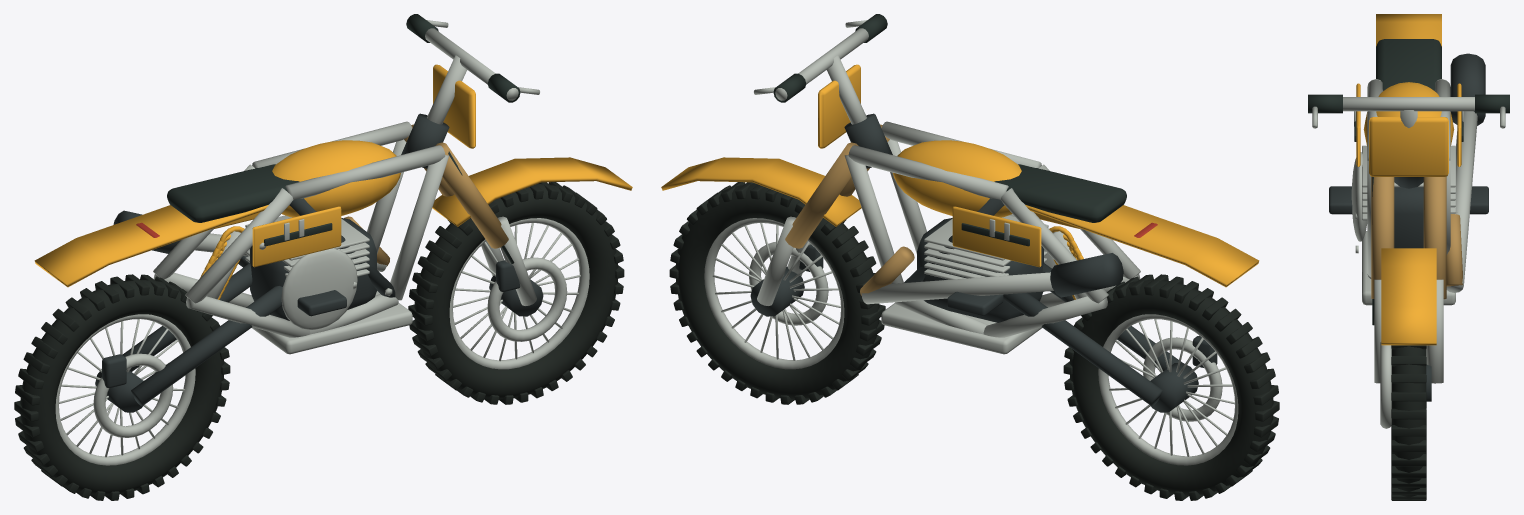
File: bike.glb
The picture shows the model from 3 angles, left to right: view 1: azimuth 30°, elevation 25°; view 2: azimuth 150°, elevation 25°; view 3: azimuth 270°, elevation 25°; orthographic projection. The views are drawn at different scales.
Visible parts, largest first — view 1: chassis_Brushed alloy, rearWheel_Tyre rubber, frontWheel_Tyre rubber, chassis_Works ochre, frontWheel_Brushed alloy, rearWheel_Brushed alloy, chassis_Grips and saddle, chassis_Engine graphite, swingarm_Engine graphite, Arched front mudguard, chassis_Fork bronze, forkSlider_Brushed alloy (+2 smaller); view 2: chassis_Brushed alloy, rearWheel_Tyre rubber, frontWheel_Tyre rubber, chassis_Works ochre, rearWheel_Brushed alloy, frontWheel_Brushed alloy, chassis_Engine graphite, chassis_Grips and saddle, swingarm_Engine graphite, Arched front mudguard, chassis_Fork bronze, forkSlider_Brushed alloy (+2 smaller); view 3: chassis_Brushed alloy, chassis_Works ochre, frontWheel_Tyre rubber, Arched front mudguard, chassis_Fork bronze, chassis_Engine graphite, chassis_Grips and saddle, forkSlider_Brushed alloy, frontWheel_Brushed alloy.
Part boxes in pixels (x1,y1,x2,y2): chassis_Brushed alloy: (153,20,539,354); rearWheel_Tyre rubber: (14,274,230,500); frontWheel_Tyre rubber: (408,182,624,404); chassis_Works ochre: (34,64,475,287); frontWheel_Brushed alloy: (449,218,589,369); rearWheel_Brushed alloy: (55,314,195,465); chassis_Grips and saddle: (167,14,520,263); chassis_Engine graphite: (113,113,449,320); swingarm_Engine graphite: (102,263,282,406); Arched front mudguard: (432,157,632,226); chassis_Fork bronze: (344,124,508,266); forkSlider_Brushed alloy: (481,216,536,305); chassis_Brushed alloy: (754,20,1140,354); rearWheel_Tyre rubber: (1063,274,1279,500); frontWheel_Tyre rubber: (669,182,885,404); chassis_Works ochre: (818,64,1259,287); rearWheel_Brushed alloy: (1098,314,1238,465); frontWheel_Brushed alloy: (704,218,844,369); chassis_Engine graphite: (844,113,1123,322); chassis_Grips and saddle: (773,14,1126,246); swingarm_Engine graphite: (1003,263,1217,406); Arched front mudguard: (661,157,861,226); chassis_Fork bronze: (785,124,914,295); forkSlider_Brushed alloy: (757,216,810,305); chassis_Brushed alloy: (1312,79,1505,305); chassis_Works ochre: (1356,14,1461,176); frontWheel_Tyre rubber: (1391,345,1426,500); Arched front mudguard: (1381,248,1436,345); chassis_Fork bronze: (1371,176,1462,299); chassis_Engine graphite: (1329,53,1488,248); chassis_Grips and saddle: (1308,39,1509,325); forkSlider_Brushed alloy: (1374,279,1443,383); frontWheel_Brushed alloy: (1380,342,1391,428).
Bounding box in the file's own units: 2.03 × 1.17 × 0.58.
